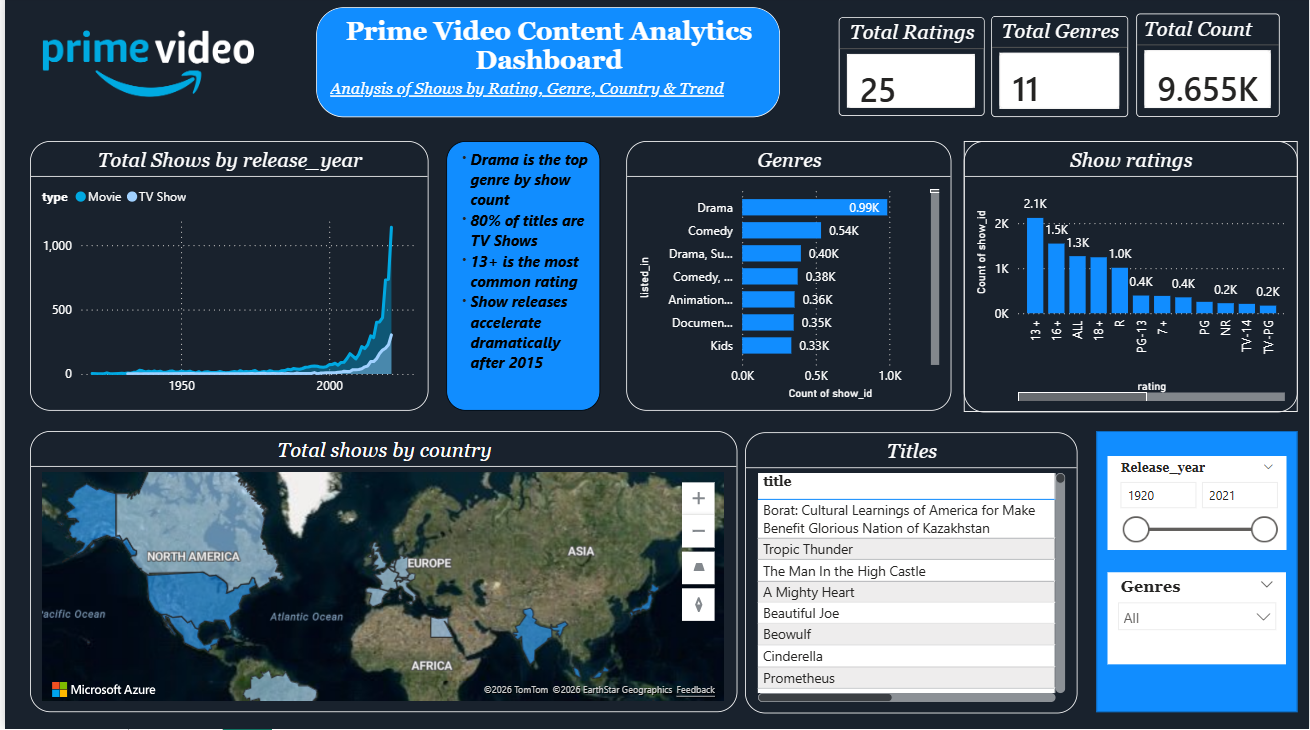

What the dashboard file says about the page in this screenshot:
{"tool":"powerbi","page":{"name":"Page 1","canvas":[1280,720],"ordinal":0},"visuals":[{"type":"azureMap","title":"Total shows by country","fields":{"Category":["amazon_prime_titles.country"]},"box":[24.5,427,694.5,276.1],"z":0},{"type":"areaChart","title":"Total Shows by release_year","fields":{"Category":["amazon_prime_titles.release_year"],"Y":["Count(amazon_prime_titles.show_id)"],"Series":["amazon_prime_titles.type"]},"box":[24.5,142.3,391.4,265],"z":1000},{"type":"image","box":[0,0,281,132.5],"z":2000},{"type":"clusteredColumnChart","title":"Show ratings","fields":{"Category":["amazon_prime_titles.rating"],"Y":["Count(amazon_prime_titles.show_id)"]},"box":[941.1,142.3,327.6,266.3],"z":3000},{"type":"barChart","title":"Genres ","fields":{"Y":["Count(amazon_prime_titles.show_id)"],"Category":["amazon_prime_titles.listed_in"]},"box":[609.8,142.3,319,265],"z":4000},{"type":"textbox","title":"Prime Video Content Analytics Dashboard","box":[305.5,11,455.2,108],"z":5000},{"type":"cardVisual","title":"Total Count ","fields":{"Data":["Count(amazon_prime_titles.title)"]},"box":[1111,17.2,140.5,101.3],"z":6000,"group":"g1"},{"type":"textbox","box":[433.1,142.3,150.9,265],"z":6000},{"type":"group","id":"g1","title":"Group 1","box":[818.4,17.2,433.1,101.8],"z":7000},{"type":"cardVisual","title":"Total Ratings","fields":{"Data":["Count(amazon_prime_titles.rating)"]},"box":[818.4,20.3,142.9,96.6],"z":7000,"group":"g1"},{"type":"cardVisual","title":"Total Genres","fields":{"Data":["Count(amazon_prime_titles.type)"]},"box":[968.2,20.1,134.4,98.9],"z":8000,"group":"g1"},{"type":"shape","box":[1071.2,427,197.5,276.1],"z":8000},{"type":"slicer","fields":{"Values":["amazon_prime_titles.release_year"]},"box":[1082.2,451.5,175.5,92],"z":9000},{"type":"slicer","fields":{"Values":["amazon_prime_titles.listed_in"]},"box":[1082.2,565.6,175.5,90.8],"z":10000},{"type":"tableEx","title":"Titles","fields":{"Values":["amazon_prime_titles.title","amazon_prime_titles.type","amazon_prime_titles.country"]},"box":[726.4,428.2,326.4,276.1],"z":11000}]}

Visuals, with their boxes in screenshot pixels (x1, y1, x2, y2), scaled from the page's 1280x720 canvas onto the 1310x730 screenshot:
"Total shows by country" azureMap: rect(25, 433, 736, 713)
"Total Shows by release_year" areaChart: rect(25, 144, 426, 413)
image: rect(0, 0, 288, 134)
"Show ratings" clusteredColumnChart: rect(963, 144, 1298, 414)
"Genres " barChart: rect(624, 144, 951, 413)
"Prime Video Content Analytics Dashboard" textbox: rect(313, 11, 779, 121)
"Total Count " cardVisual: rect(1137, 17, 1281, 120)
textbox: rect(443, 144, 598, 413)
"Group 1" group: rect(838, 17, 1281, 121)
"Total Ratings" cardVisual: rect(838, 21, 984, 119)
"Total Genres" cardVisual: rect(991, 20, 1128, 121)
shape: rect(1096, 433, 1298, 713)
slicer - amazon_prime_titles.release_year: rect(1108, 458, 1287, 551)
slicer - amazon_prime_titles.listed_in: rect(1108, 573, 1287, 666)
"Titles" tableEx: rect(743, 434, 1077, 714)
